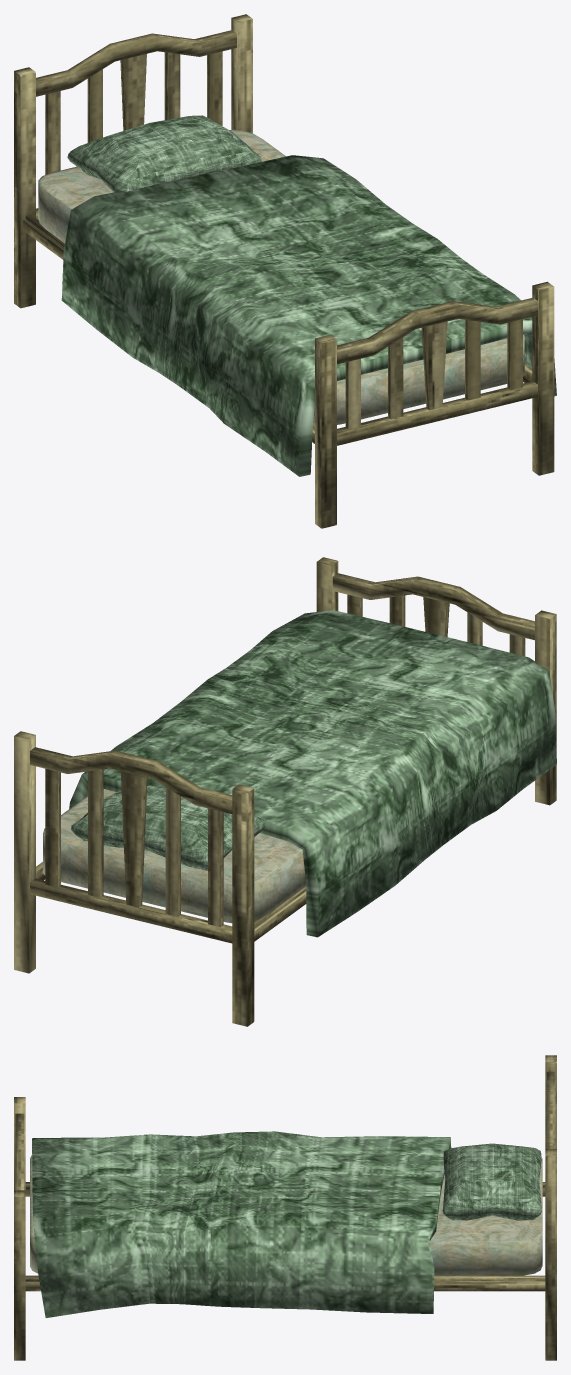
The model's file is bed_draft_1.glb.
3 renders of one model, top to bottom at view 1: azimuth 30°, elevation 25°; view 2: azimuth 150°, elevation 25°; view 3: azimuth 270°, elevation 25°, orthographic. The views are drawn at different scales.
Parts seen in each view (by area): view 1: Bed, Pillow; view 2: Bed, Pillow; view 3: Bed, Pillow.
Boxes of the visible parts, left/top/right/bottom form: Bed: left=14, top=14, right=556, bottom=528; Pillow: left=67, top=115, right=261, bottom=192; Bed: left=14, top=557, right=556, bottom=1026; Pillow: left=71, top=784, right=265, bottom=870; Bed: left=14, top=1055, right=556, bottom=1360; Pillow: left=442, top=1143, right=541, bottom=1220.
Size of the model in its own units: 77.39 by 62.88 by 148.
Materials: 2 (2 with a texture image).
